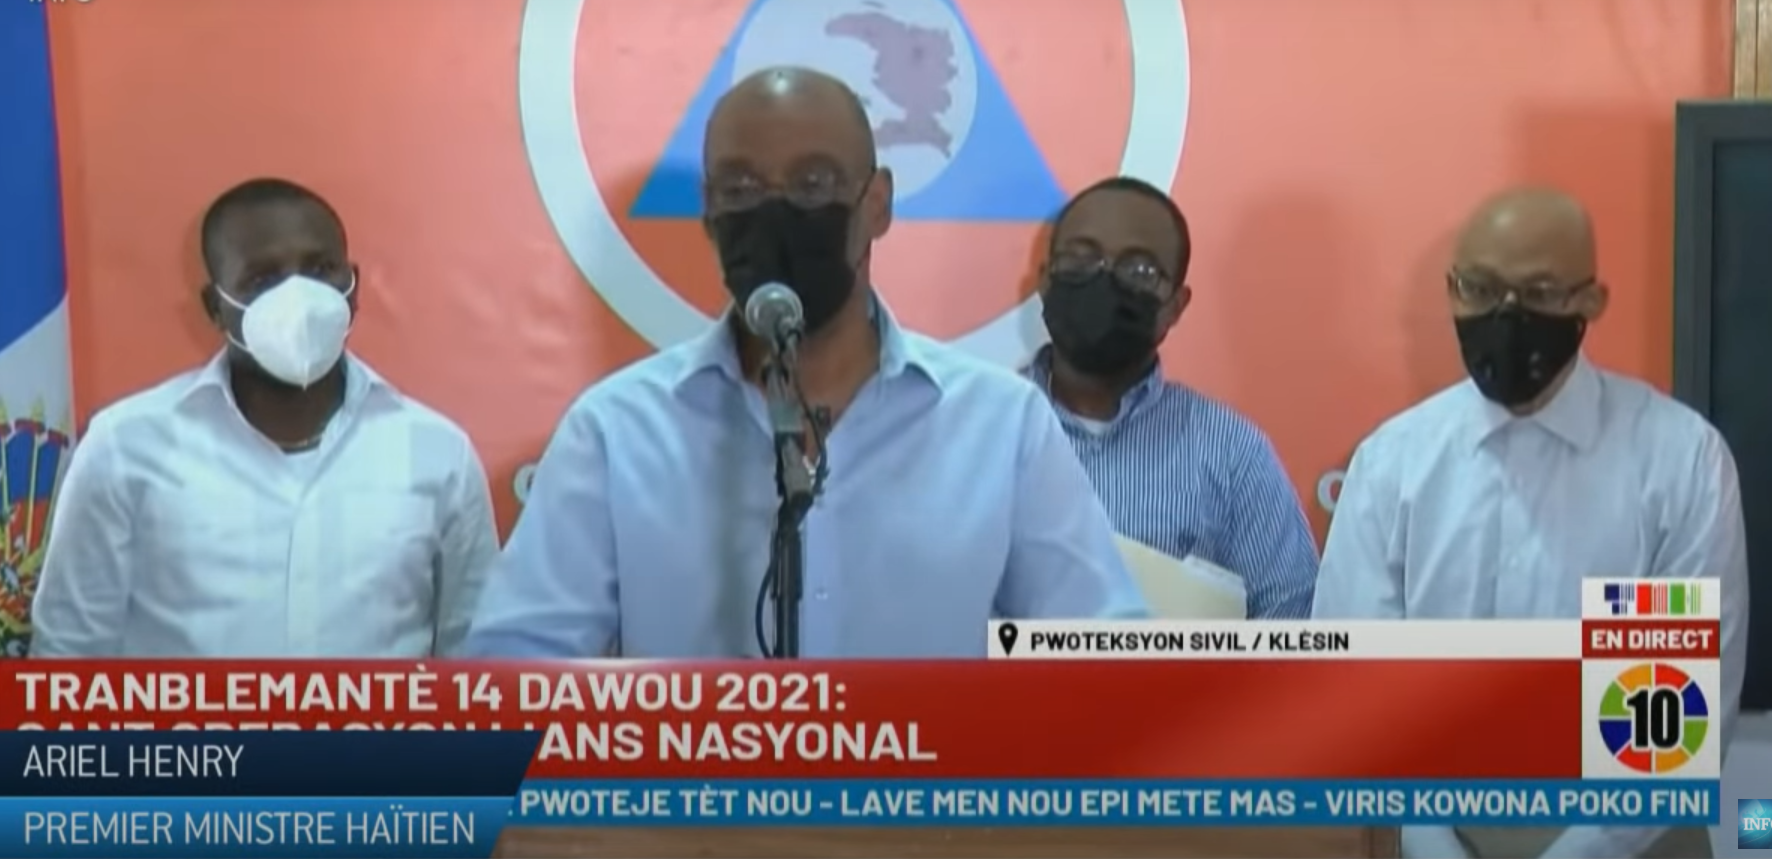with_mask: (711, 140, 865, 307), (234, 241, 343, 384), (1052, 236, 1164, 367), (1465, 253, 1579, 372)
